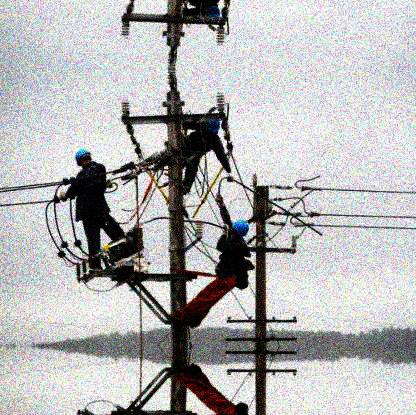helmet: (229, 220, 249, 239), (75, 148, 93, 169)
